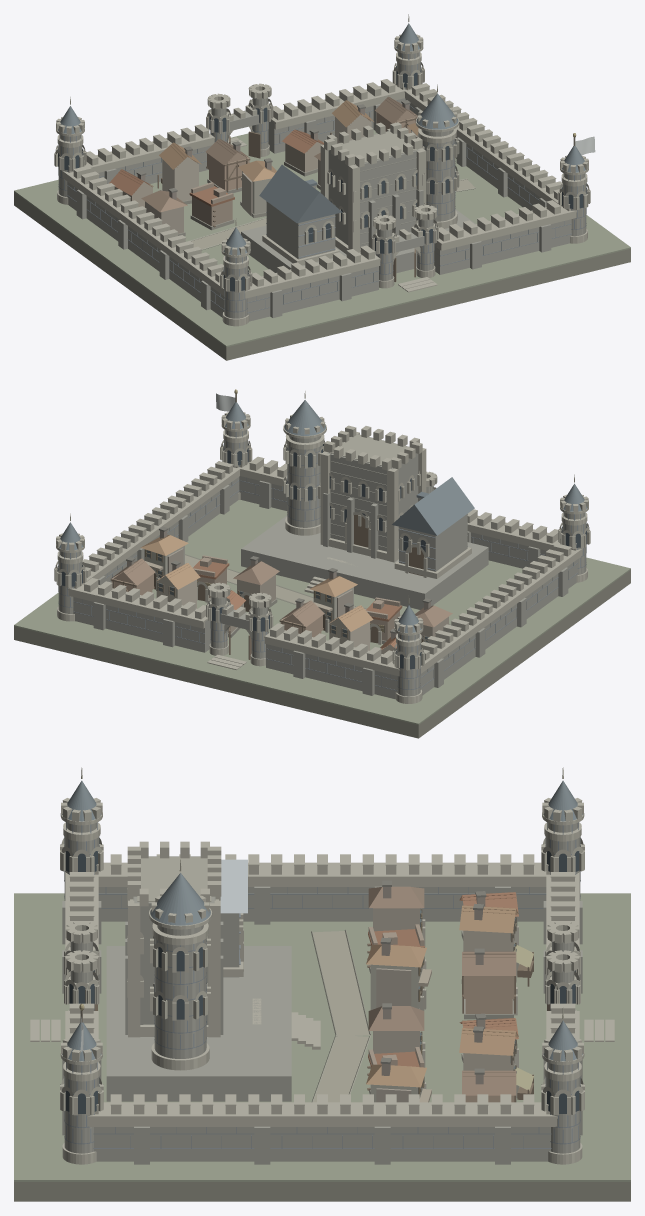
The model's file is city-2.glb.
3 views of the same model, one above another, from view 1: azimuth 30°, elevation 25°; view 2: azimuth 150°, elevation 25°; view 3: azimuth 270°, elevation 25° (orthographic). The views are drawn at different scales.
Visible parts, largest first — view 1: شهر پلکانی; view 2: شهر پلکانی; view 3: شهر پلکانی.
Part boxes in pixels (x1,y1,x2,y2): شهر پلکانی: (14,14,630,360); شهر پلکانی: (14,389,630,738); شهر پلکانی: (14,767,630,1201).
Size of the model in its own units: 11 by 4.39 by 10.
